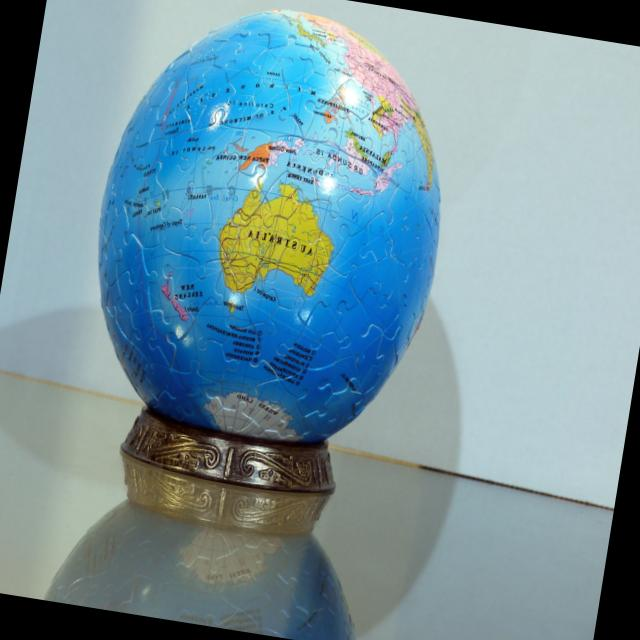Ball: (69, 0, 472, 463)
